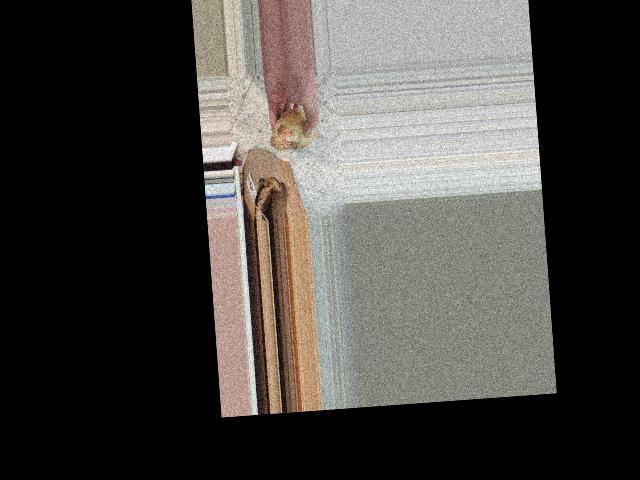onion: (267, 103, 319, 156)
